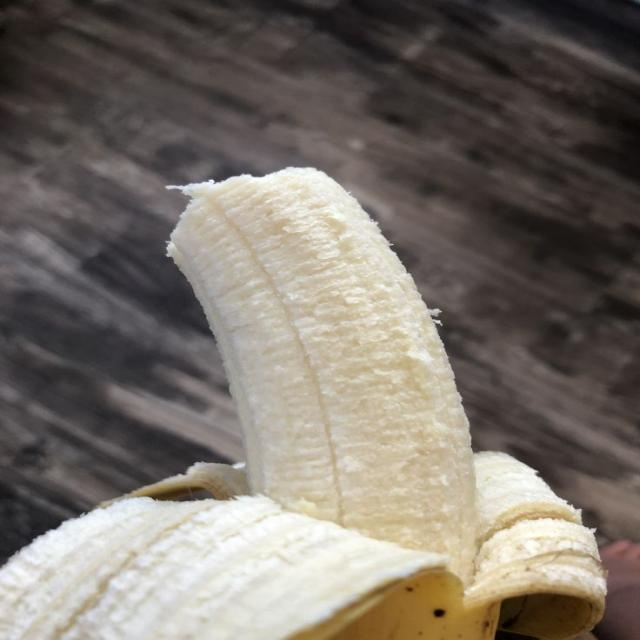banana: (0, 169, 605, 639), (169, 169, 475, 581), (0, 497, 446, 639), (474, 452, 581, 544), (100, 462, 249, 507)
